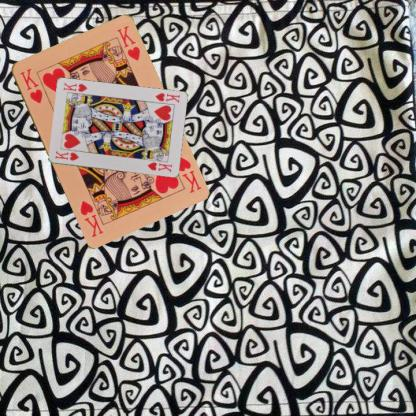Kh: (17, 65, 44, 105), (175, 154, 202, 194), (152, 90, 181, 104), (52, 148, 80, 162)
